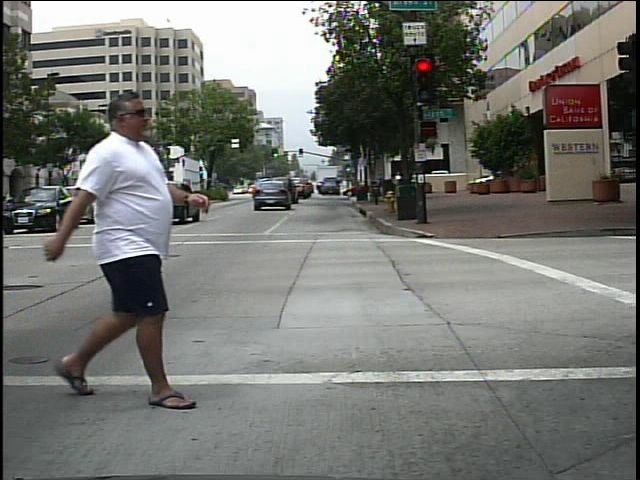person: (34, 86, 200, 409)
